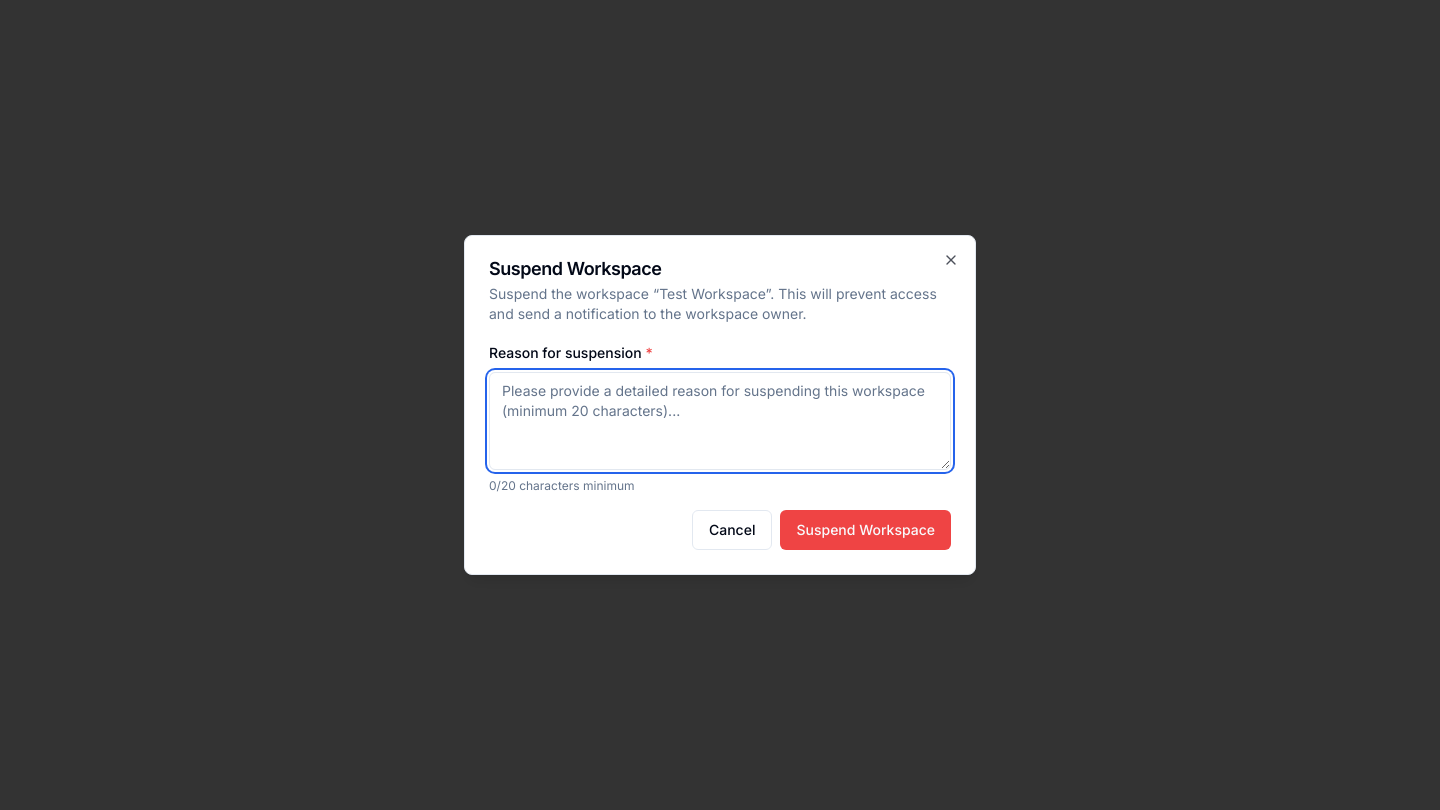
SuspendWorkspaceModal › should show character count
Type "Hello" into the text box labelled "Reason for suspension *" at (720, 421), box [489,372,951,470]
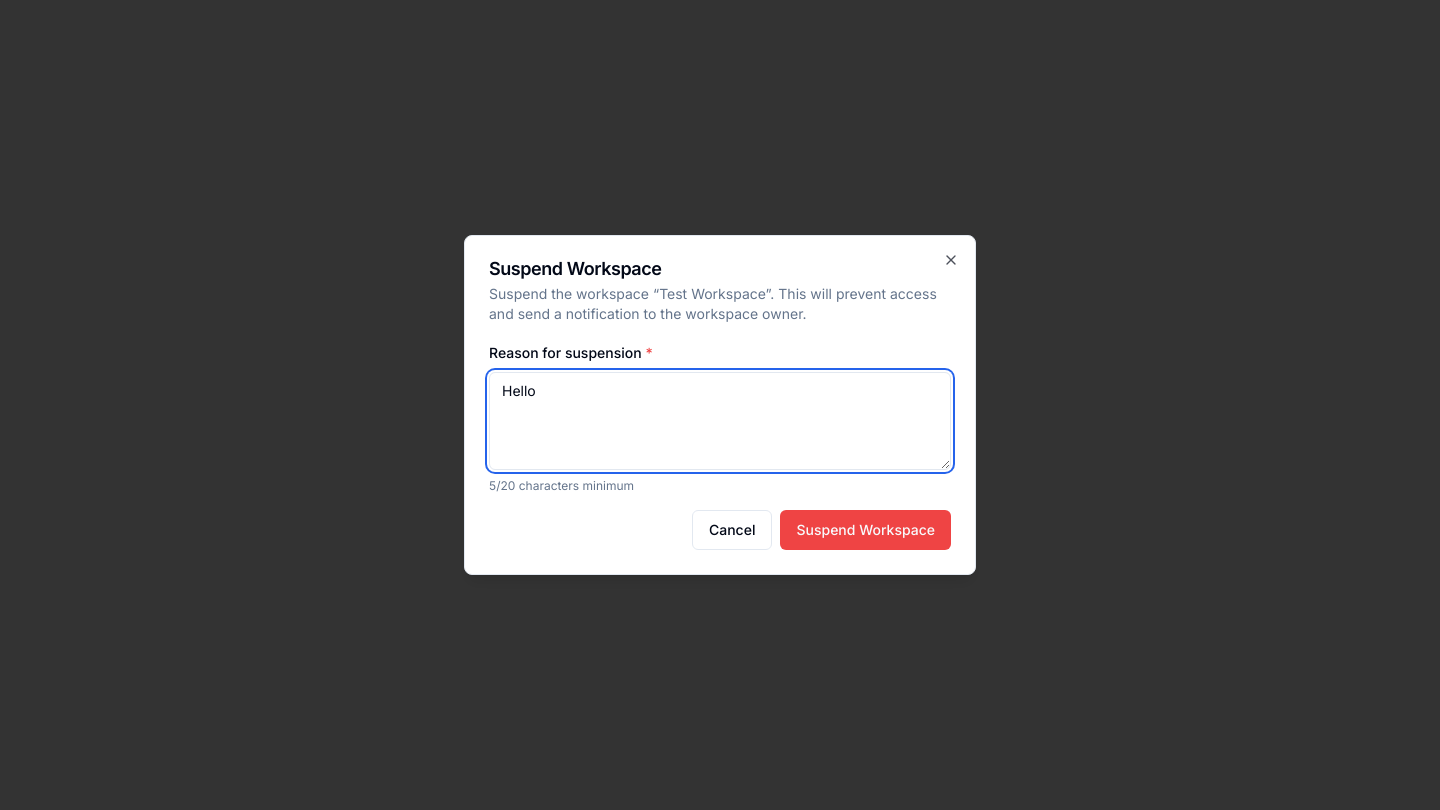
Now the text "5/20 characters minimum" is shown, box [489,478,634,493]
Type " World" into the text box labelled "Reason for suspension *" at (720, 421), box [489,372,951,470]
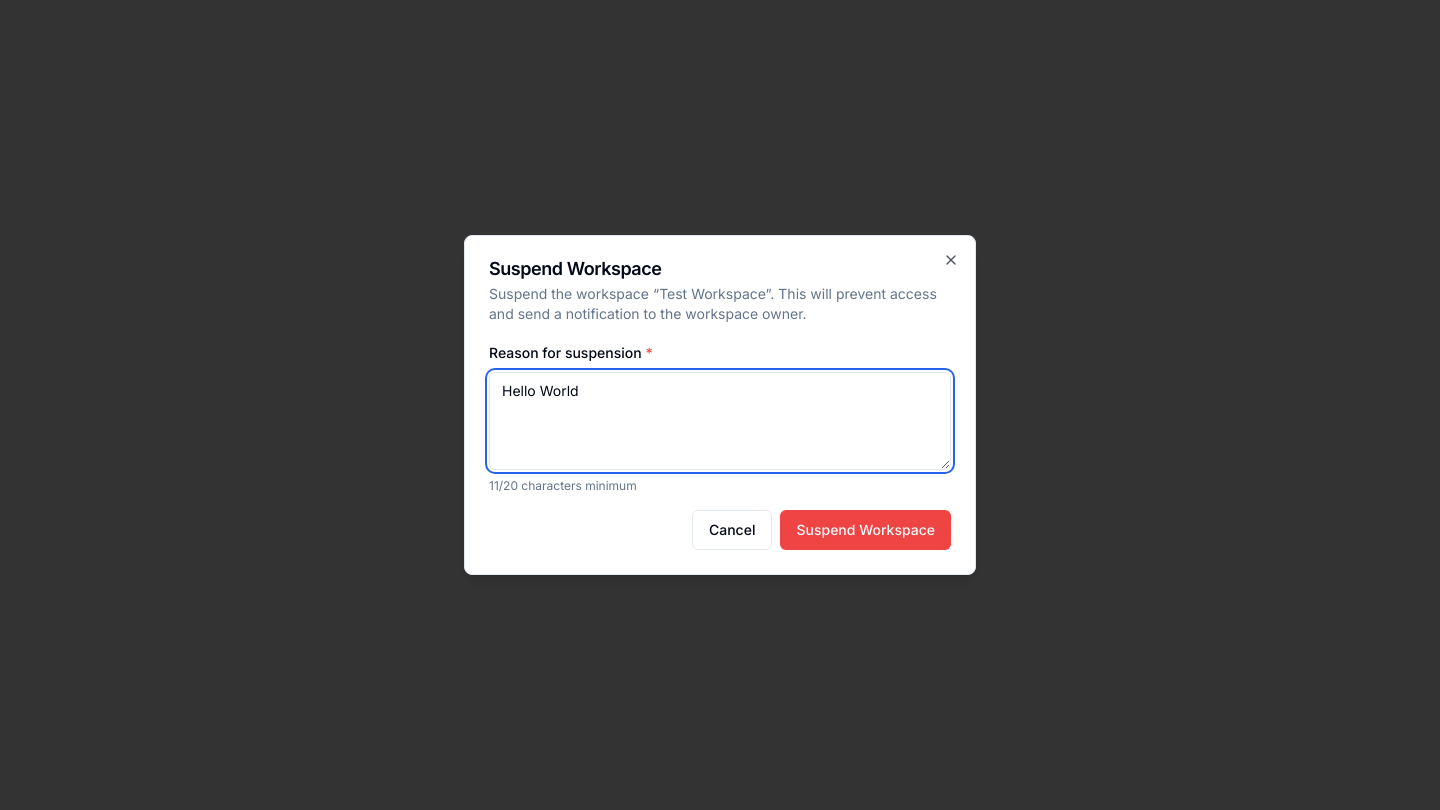
Now the text "11/20 characters minimum" is shown, box [489,478,637,493]
